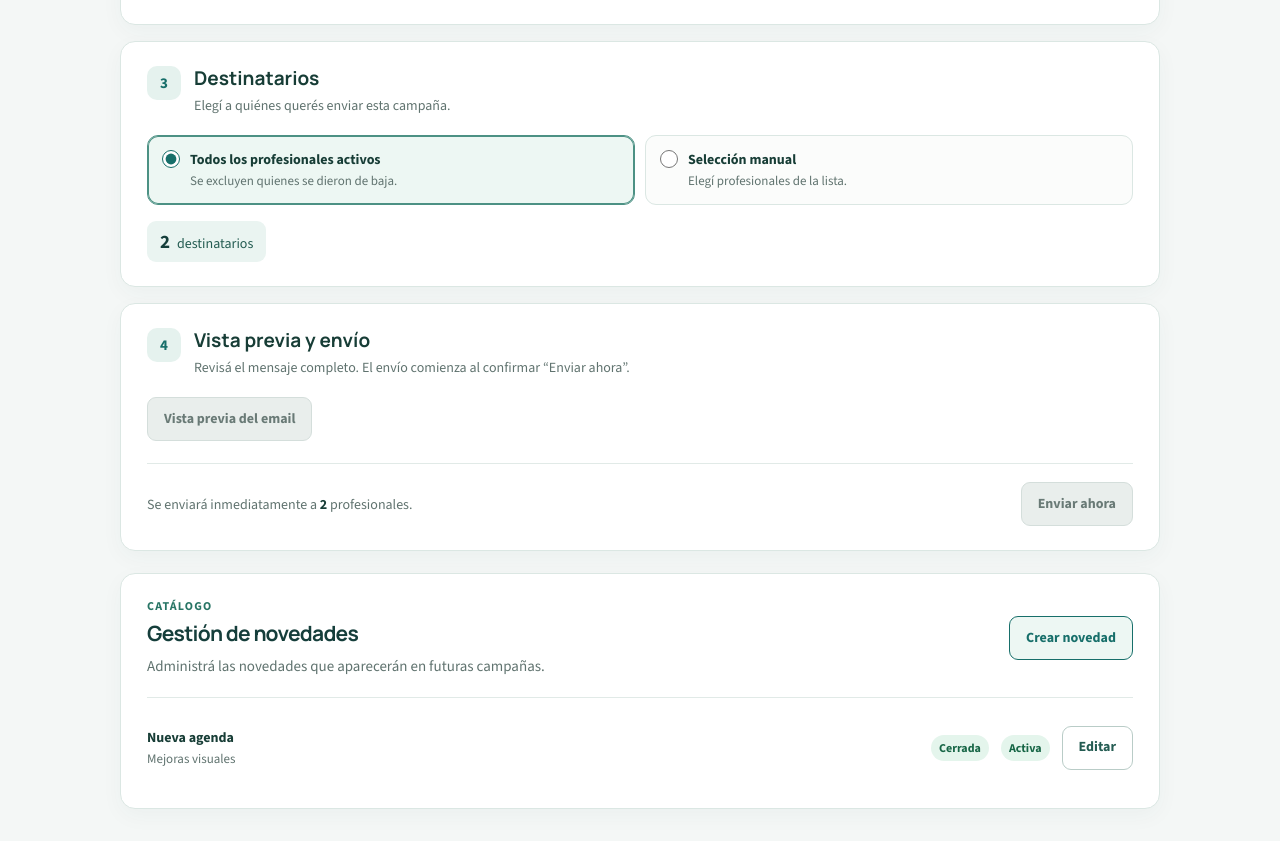
Scenario: CampaniasAdmin › edita una novedad enviando sólo los campos permitidos
(page scrolled)
Click the button "Editar" at {"x": 1097, "y": 748}, box x1=1062 y1=726 x2=1133 y2=770
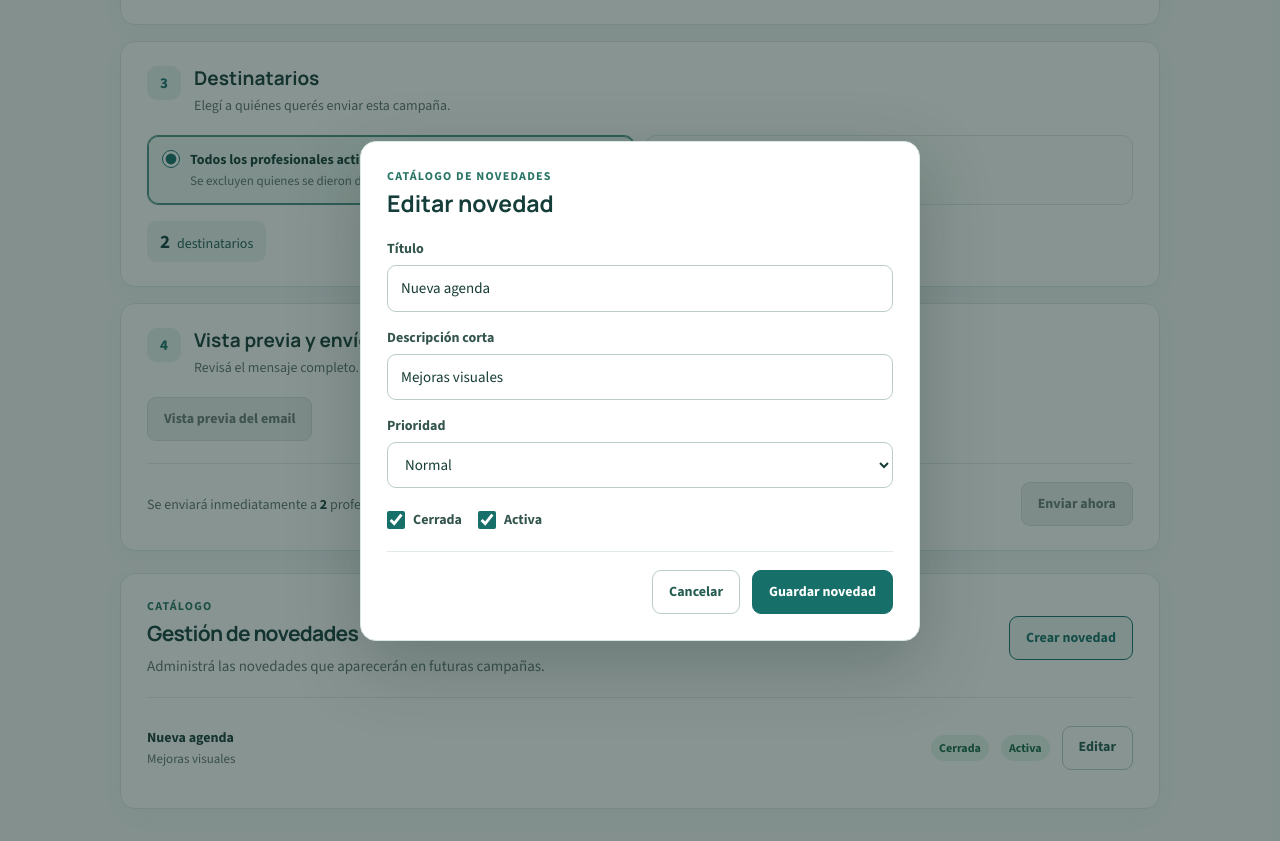
Replace the text in the field labelled "Título" with "Agenda actualizada" at {"x": 640, "y": 289}, box x1=387 y1=265 x2=893 y2=312
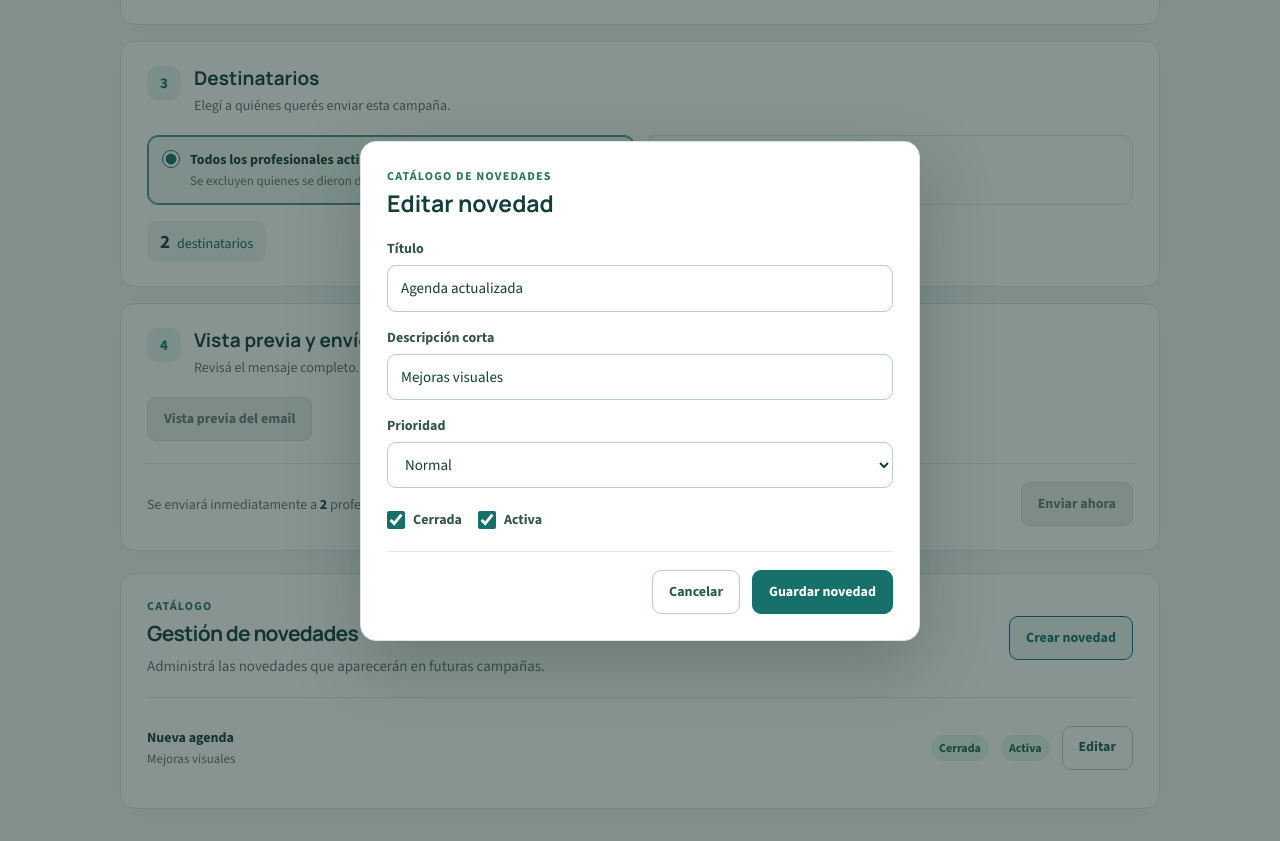
Click the button "Guardar novedad" at {"x": 822, "y": 592}, box x1=752 y1=570 x2=893 y2=614
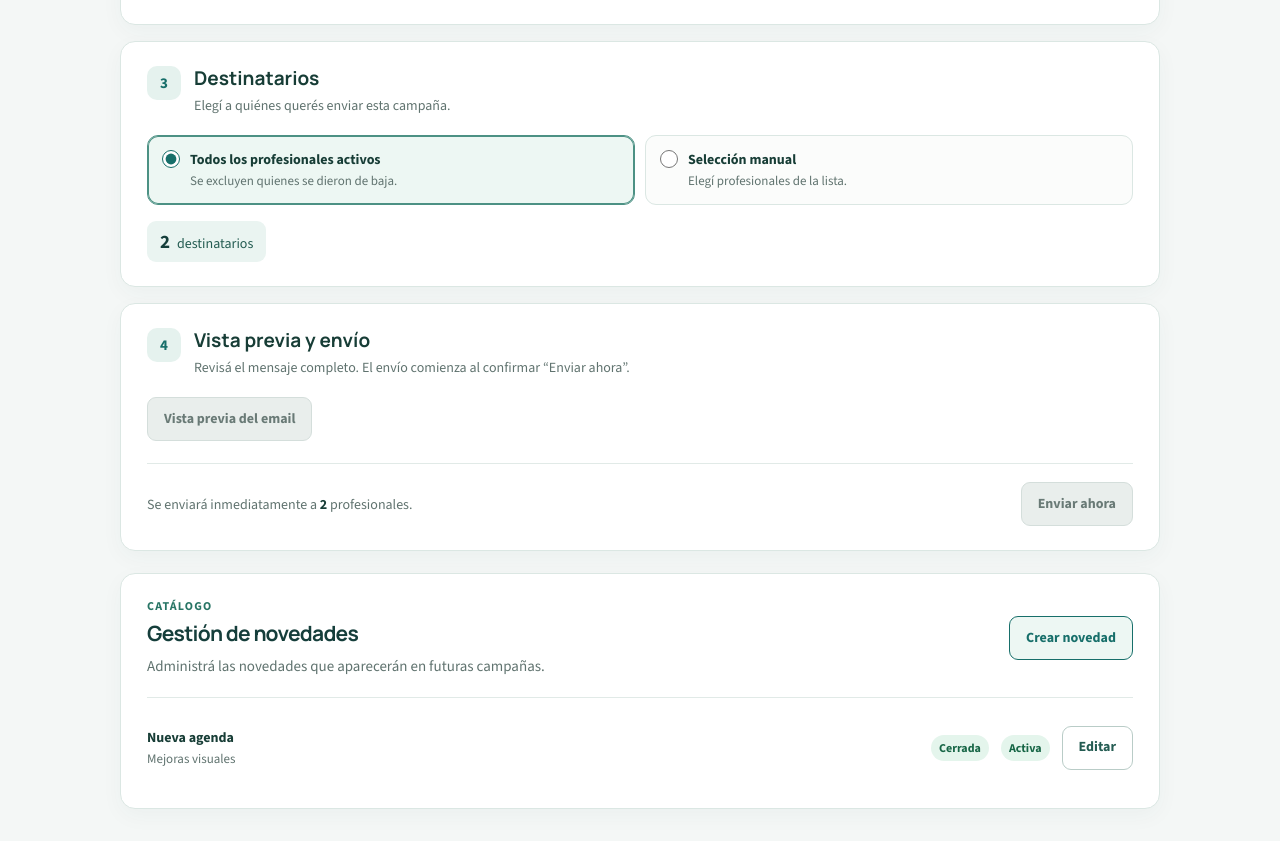
Expected: the dialog is gone
